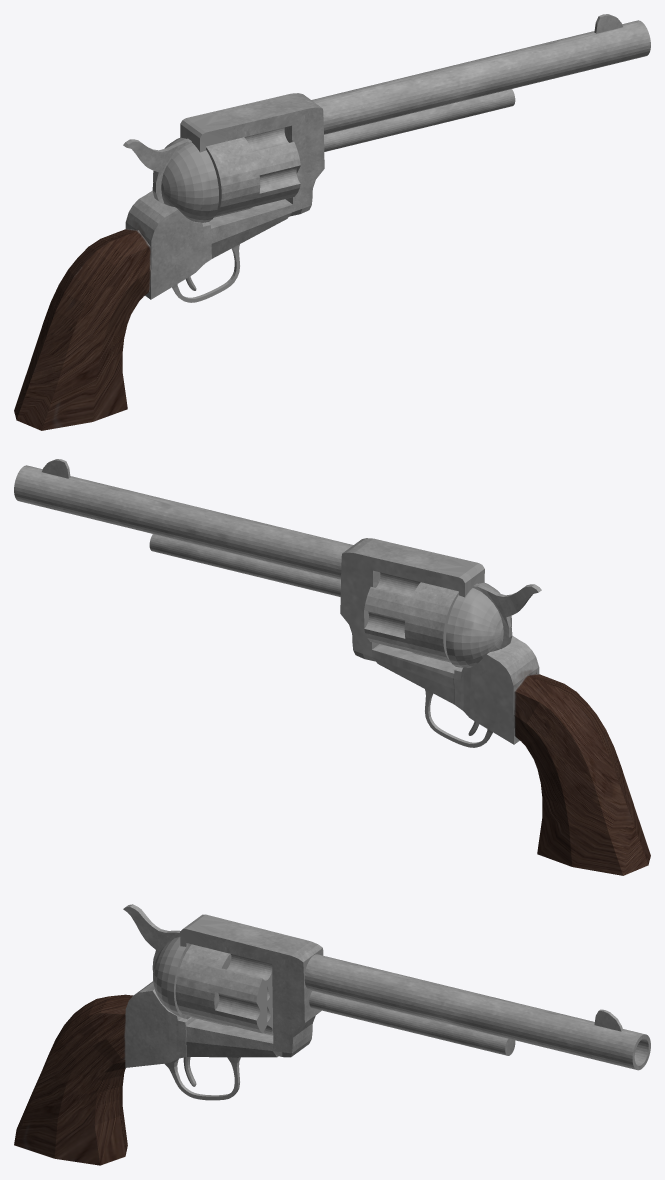
Rendered from RevolverBeforeBake.fbx.
3 views of the same model, one above another, from view 1: azimuth 30°, elevation 25°; view 2: azimuth 150°, elevation 25°; view 3: azimuth 330°, elevation 25° (orthographic).
Visible parts, largest first — view 1: Cube.005; view 2: Cube.005; view 3: Cube.005.
Part boxes in pixels (<box>): Cube.005: <box>14,14,650,430</box>; Cube.005: <box>14,459,650,875</box>; Cube.005: <box>14,904,650,1165</box>.
Size of the model in its own units: 450 by 182 by 57.41.
1 material, 1 textured.
